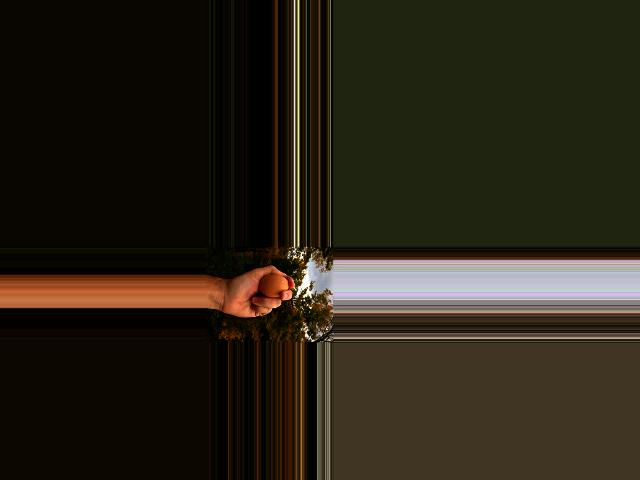egg: (259, 274, 288, 298)
